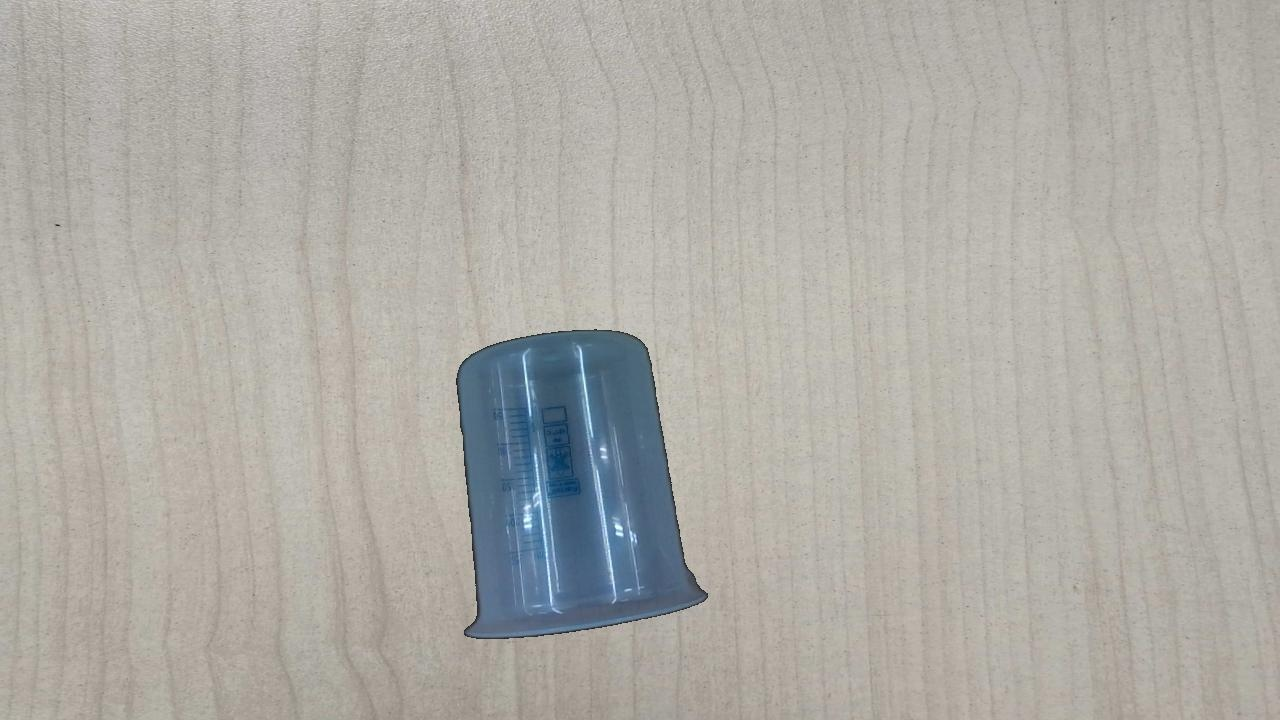becker: (457, 328, 710, 640)
